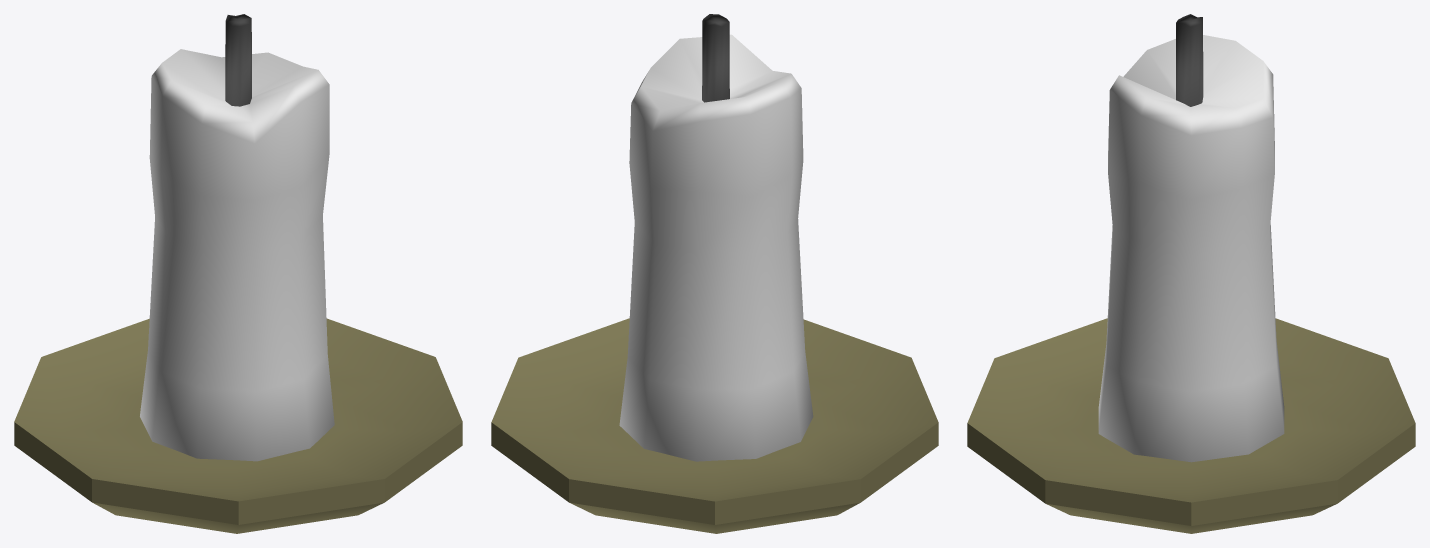
Rendered from candle.fbx.
3 renders of one model, left to right at view 1: azimuth 30°, elevation 25°; view 2: azimuth 150°, elevation 25°; view 3: azimuth 270°, elevation 25°, orthographic.
Parts seen in each view (by area): view 1: pCylinder1, pCylinder2; view 2: pCylinder1, pCylinder2; view 3: pCylinder1, pCylinder2.
Part boxes in pixels (x1=…): pCylinder1: x1=140, y1=14, x2=334, y2=461; pCylinder2: x1=14, y1=318, x2=462, y2=533; pCylinder1: x1=619, y1=14, x2=813, y2=461; pCylinder2: x1=491, y1=318, x2=938, y2=533; pCylinder1: x1=1098, y1=14, x2=1284, y2=462; pCylinder2: x1=967, y1=318, x2=1415, y2=533.
Bounding box in the file's own units: 3.76 × 4.1 × 3.82.
